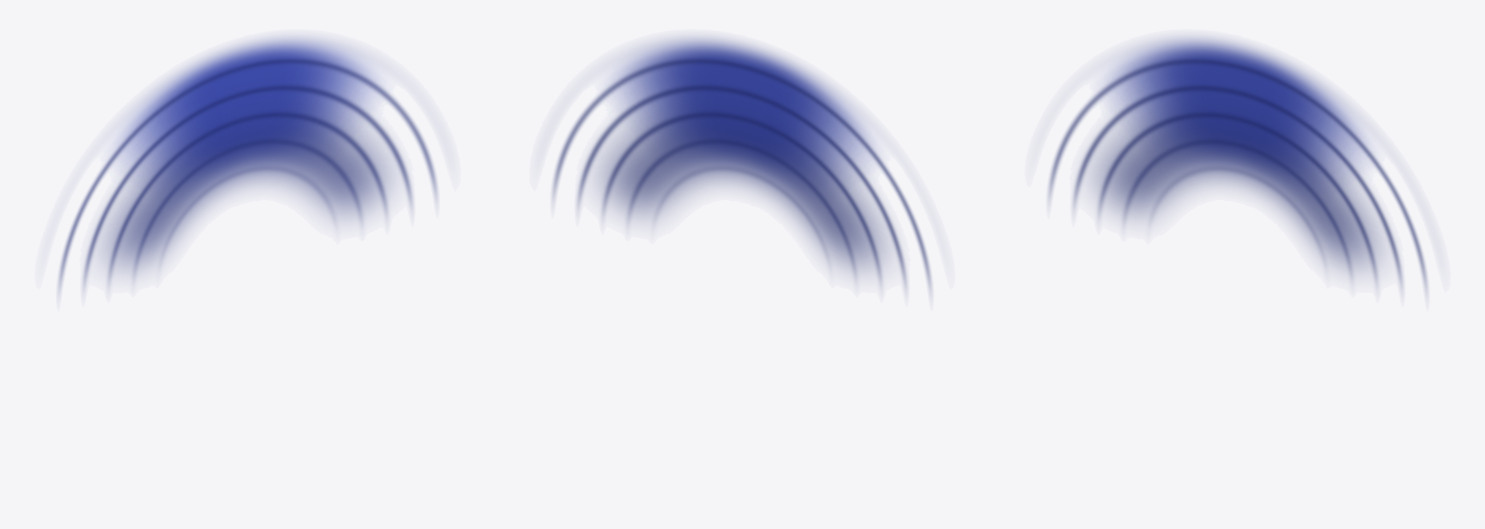
The model's file is iris.glb.
The picture shows the model from 3 angles, left to right: view 1: azimuth 30°, elevation 25°; view 2: azimuth 150°, elevation 25°; view 3: azimuth 330°, elevation 25°; orthographic projection.
Parts seen in each view (by area): view 1: eye.003; view 2: eye.003; view 3: eye.003.
Boxes of the visible parts, x1,y1,x2,y2 form: eye.003: (58, 37, 436, 290); eye.003: (553, 37, 931, 290); eye.003: (1048, 37, 1426, 290).
Size of the model in its own units: 0.2882 by 0.2882 by 1.18e-07.
1 material, 1 textured.
